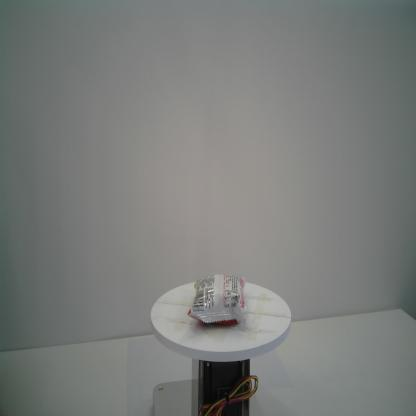Dessert: (186, 274, 248, 326)
